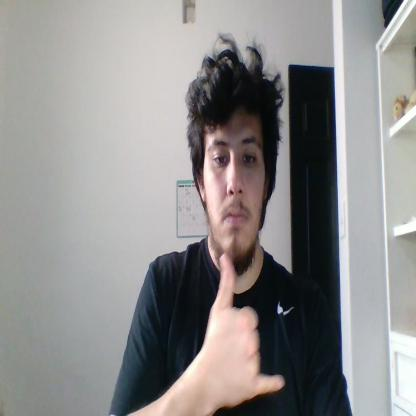Y: (203, 254, 284, 406)
